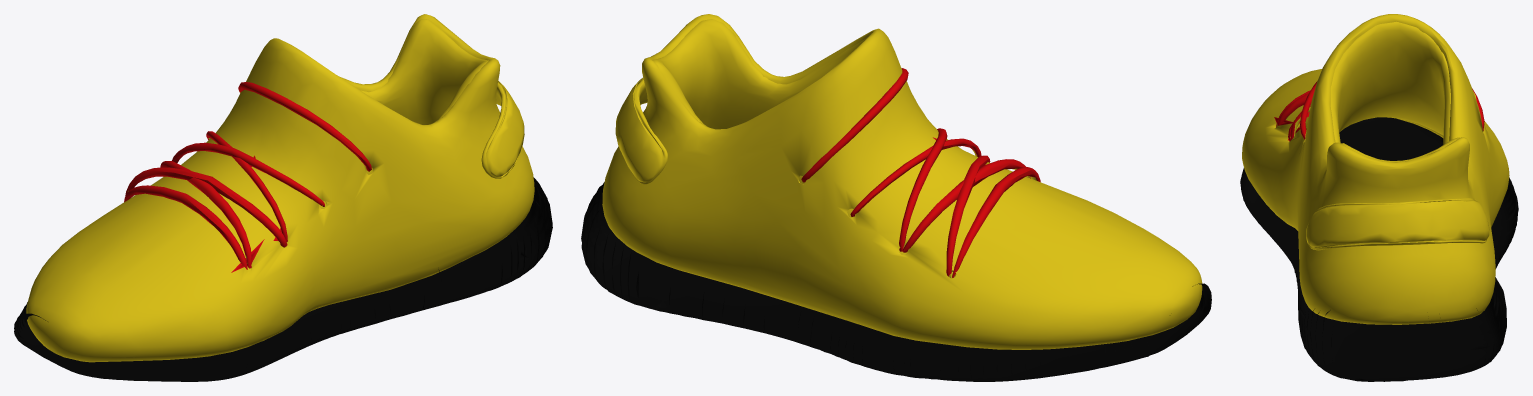
Rendered from ADIDAS.obj.
3 renders of one model, left to right at view 1: azimuth 30°, elevation 25°; view 2: azimuth 150°, elevation 25°; view 3: azimuth 270°, elevation 25°, orthographic. The views are drawn at different scales.
Visible parts, largest first — view 1: Oberschuh, Sohle; view 2: Oberschuh, Sohle; view 3: Oberschuh, Sohle.
Boxes of the visible parts, x1=… form: Oberschuh: x1=26, y1=14, x2=534, y2=362; Sohle: x1=14, y1=177, x2=552, y2=381; Oberschuh: x1=602, y1=14, x2=1202, y2=349; Sohle: x1=581, y1=182, x2=1211, y2=381; Oberschuh: x1=1242, y1=14, x2=1509, y2=324; Sohle: x1=1240, y1=117, x2=1518, y2=381.
Size of the model in its own units: 2.25 by 1.05 by 1.01.
